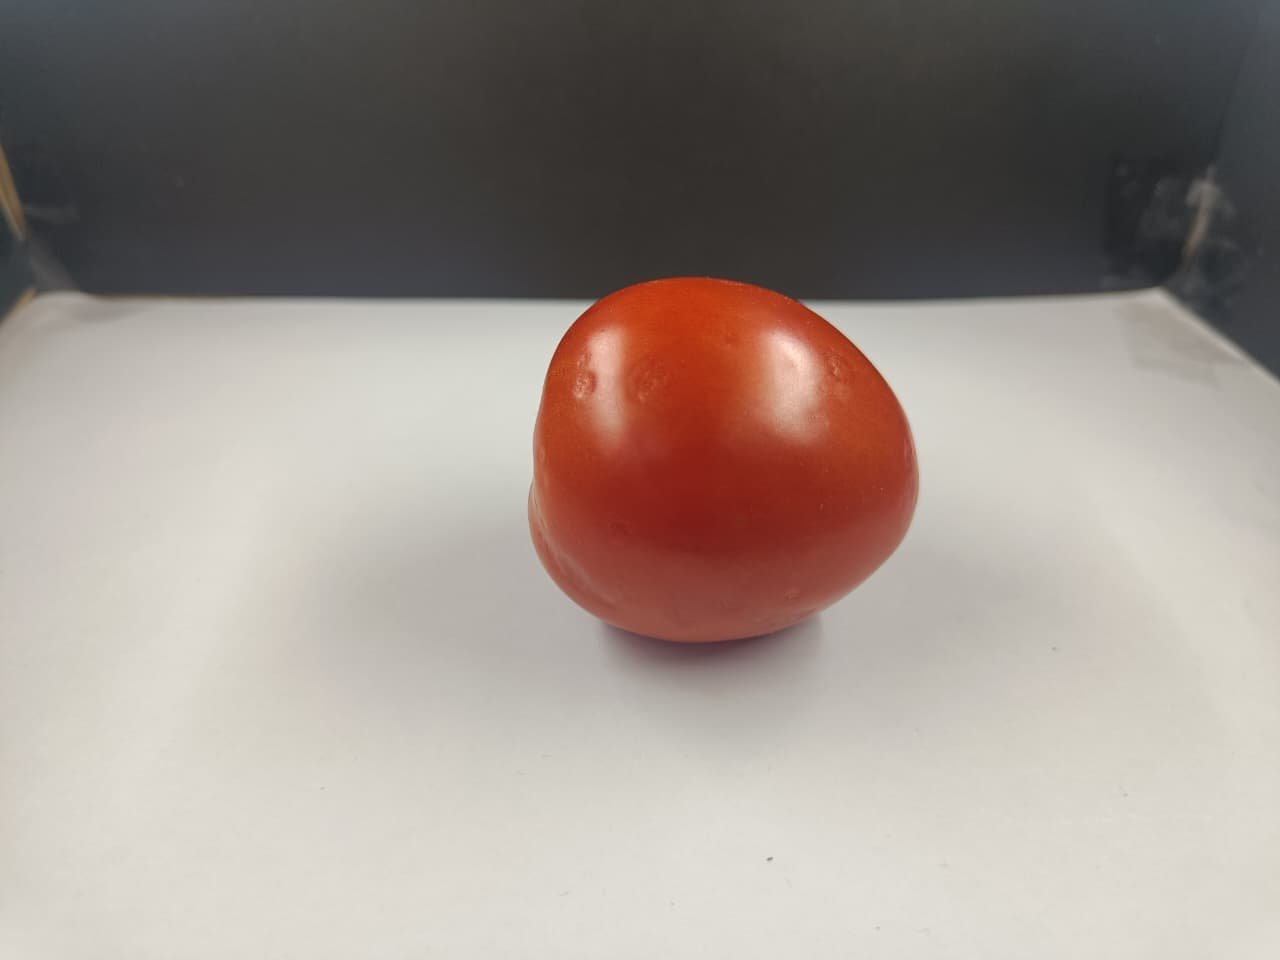ripe: (503, 273, 930, 652)
